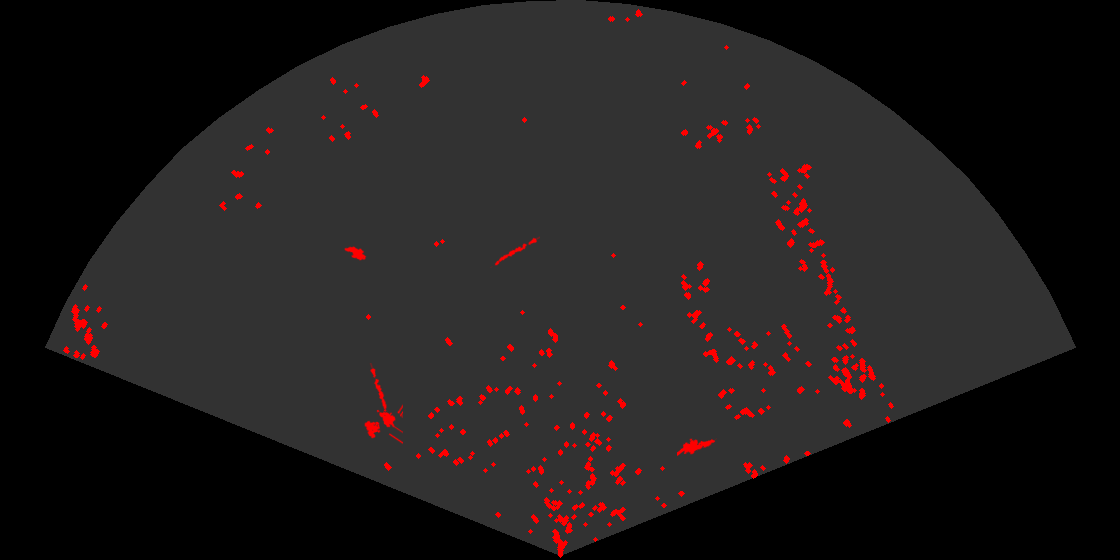AUV: (343, 245, 368, 262)
cage: (363, 403, 403, 446)
chain: (489, 235, 540, 268), (368, 363, 389, 416)
frogman: (677, 437, 717, 458)
